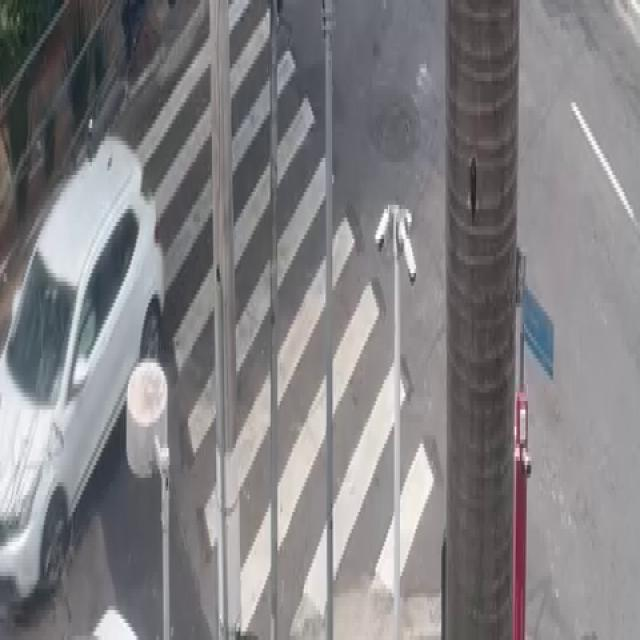car: (3, 135, 160, 624)
